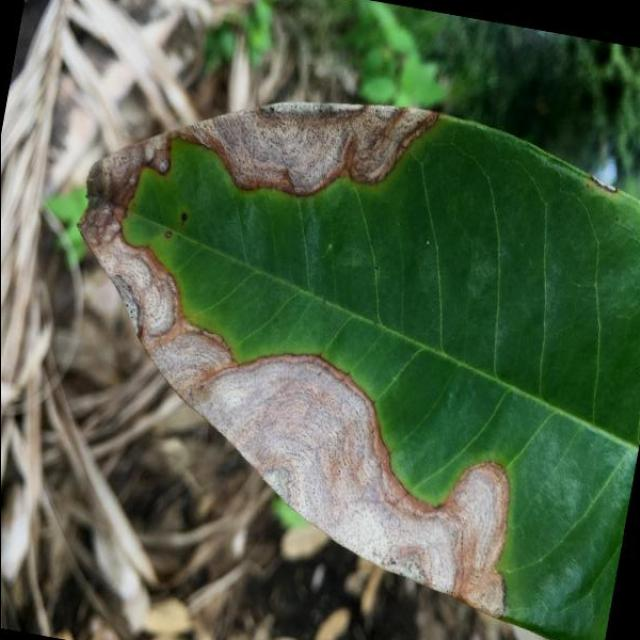Leaf Blight: (10, 41, 640, 640)
